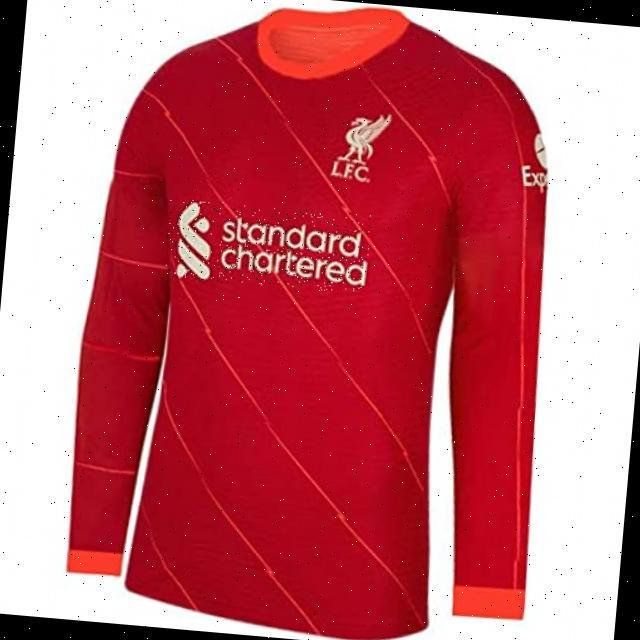Standard Chartered: (164, 198, 372, 294)
